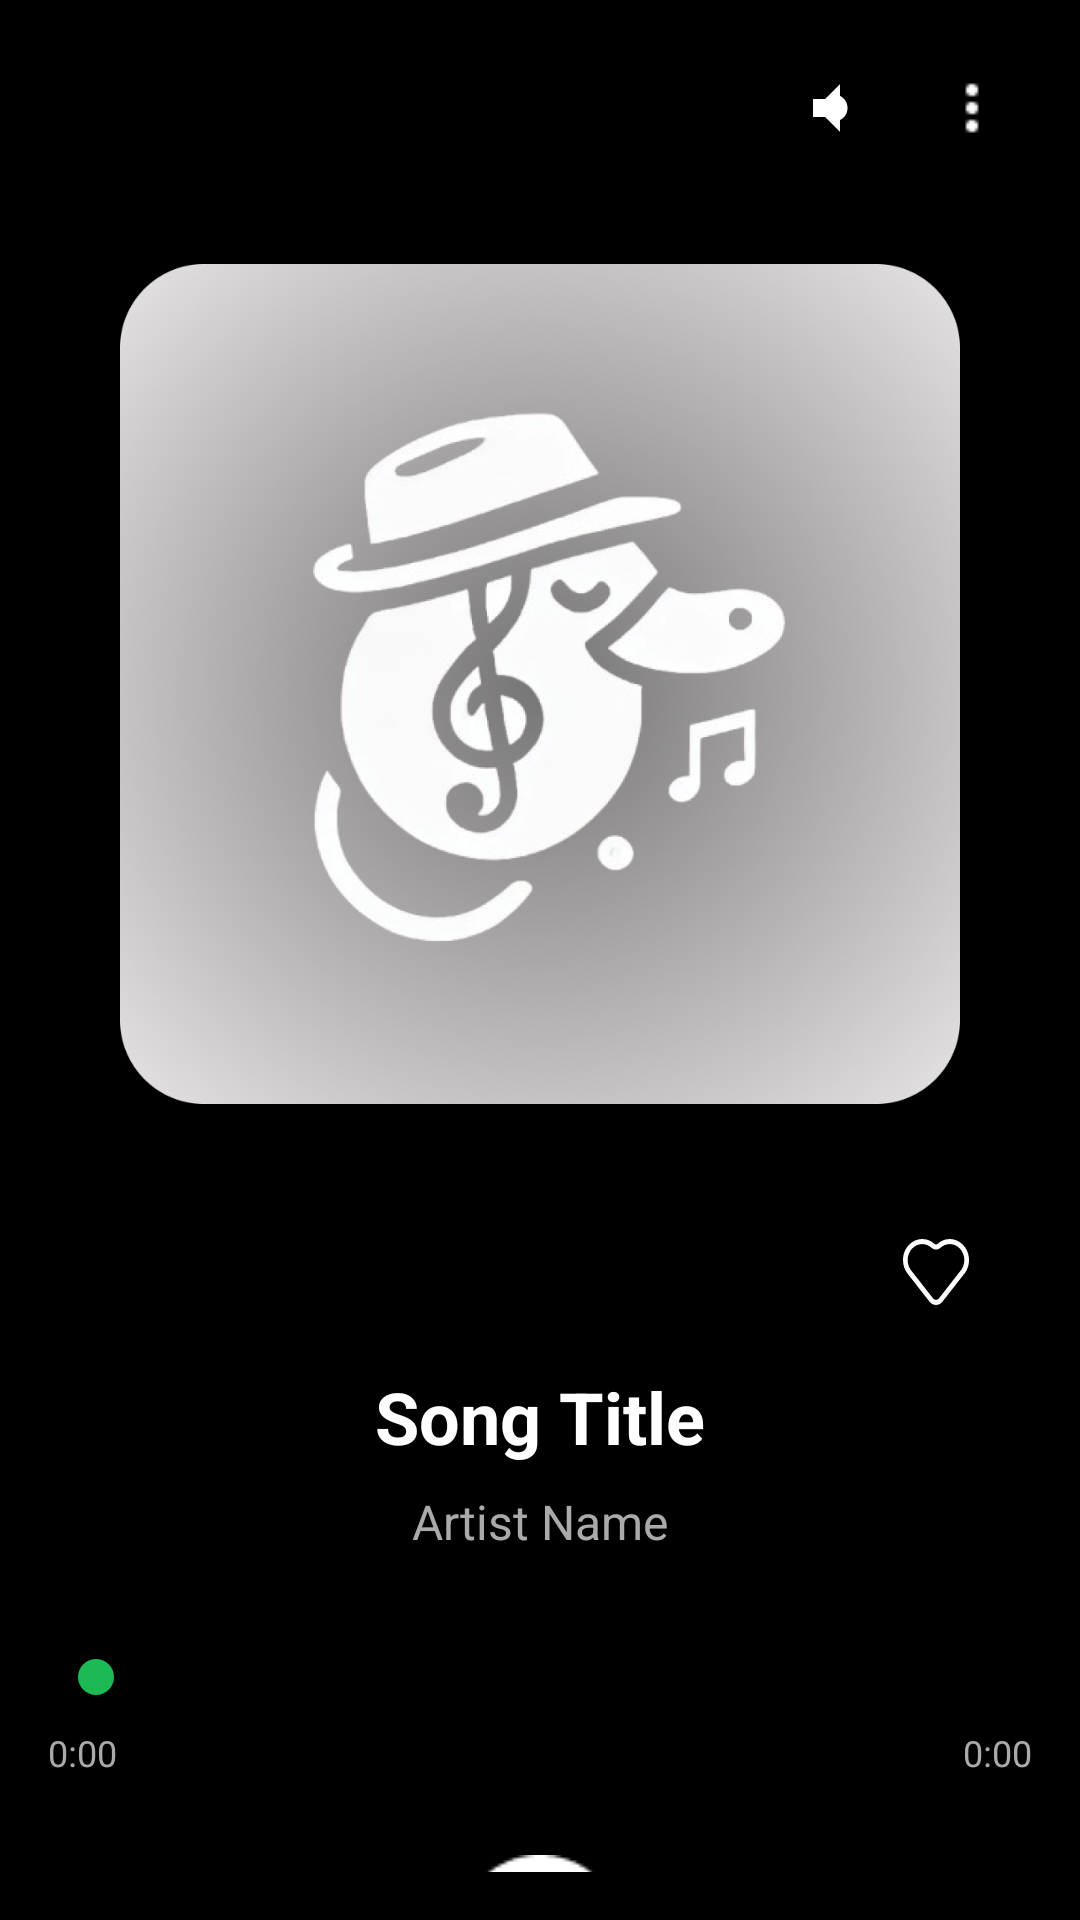

Screen size 1080x1920. Icon name, then its center in pixels as (x=x, y=y):
Add to Favorites: (x=936, y=1272)
Audio Output Device: (x=830, y=108)
More Options: (x=972, y=108)
